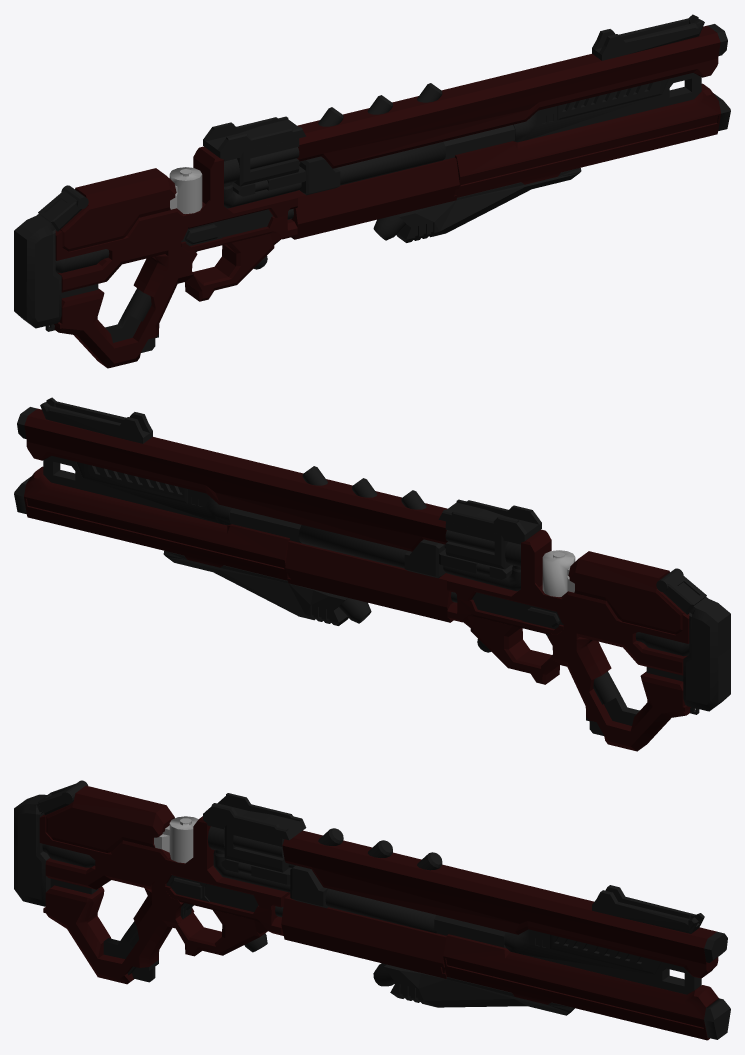
The picture shows the model from 3 angles, top to bottom: view 1: azimuth 30°, elevation 25°; view 2: azimuth 150°, elevation 25°; view 3: azimuth 330°, elevation 25°; orthographic projection.
Parts seen in each view (by area): view 1: body_low, mag_low, chick_low; view 2: body_low, mag_low, chick_low; view 3: body_low, mag_low, chick_low.
Part boxes in pixels (x1,y1,x2,y2): body_low: (14, 14, 730, 368); mag_low: (169, 167, 202, 213); chick_low: (38, 185, 88, 231); body_low: (14, 397, 730, 751); mag_low: (542, 550, 575, 596); chick_low: (656, 568, 706, 614); body_low: (14, 785, 730, 1040); mag_low: (154, 816, 198, 863); chick_low: (38, 780, 88, 815).
Size of the model in its own units: 154 by 43.6 by 6.51.
